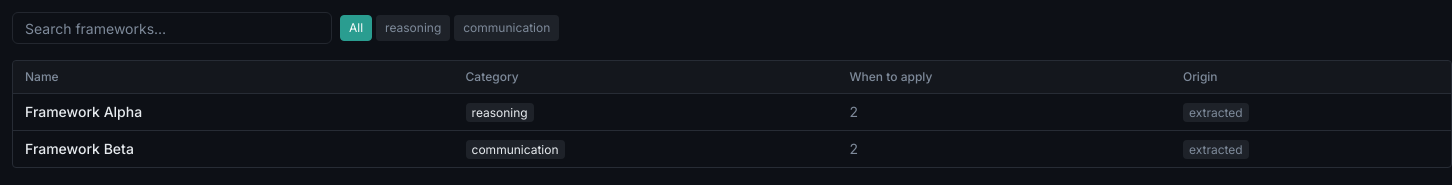
FrameworkLibraryTab — KIN-319 › browse and loading › clicking 'All' clears category filter and shows all frameworks
The image size is (1452, 185).
Expected: the text "Framework Alpha" is shown, [25, 103, 142, 120]
Note: Filter to reasoning, then reset
What coordinates should you click on to do the following:
click the button "reasoning"
I would click on:
 (413, 28)
Its box is [376, 15, 450, 41].
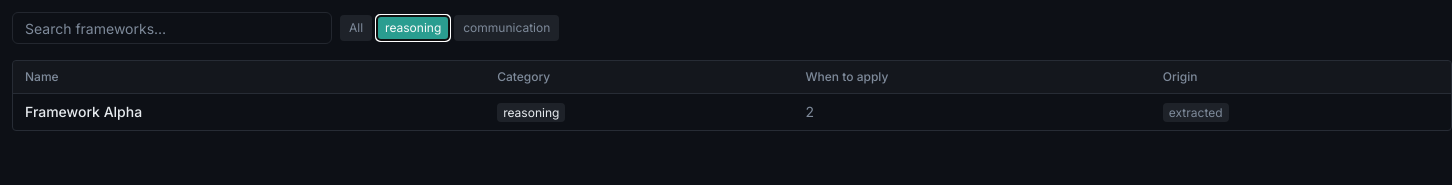
What coordinates should you click on to do the following:
click the button "All"
I would click on:
 (356, 28)
Its box is [340, 15, 372, 41].
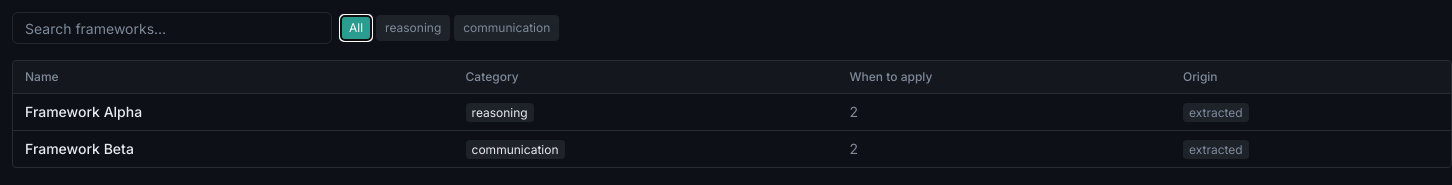
Expected: the text "Framework Alpha" is shown, [25, 103, 142, 120]
Now the text "Framework Beta" is shown, box [25, 140, 134, 157]
